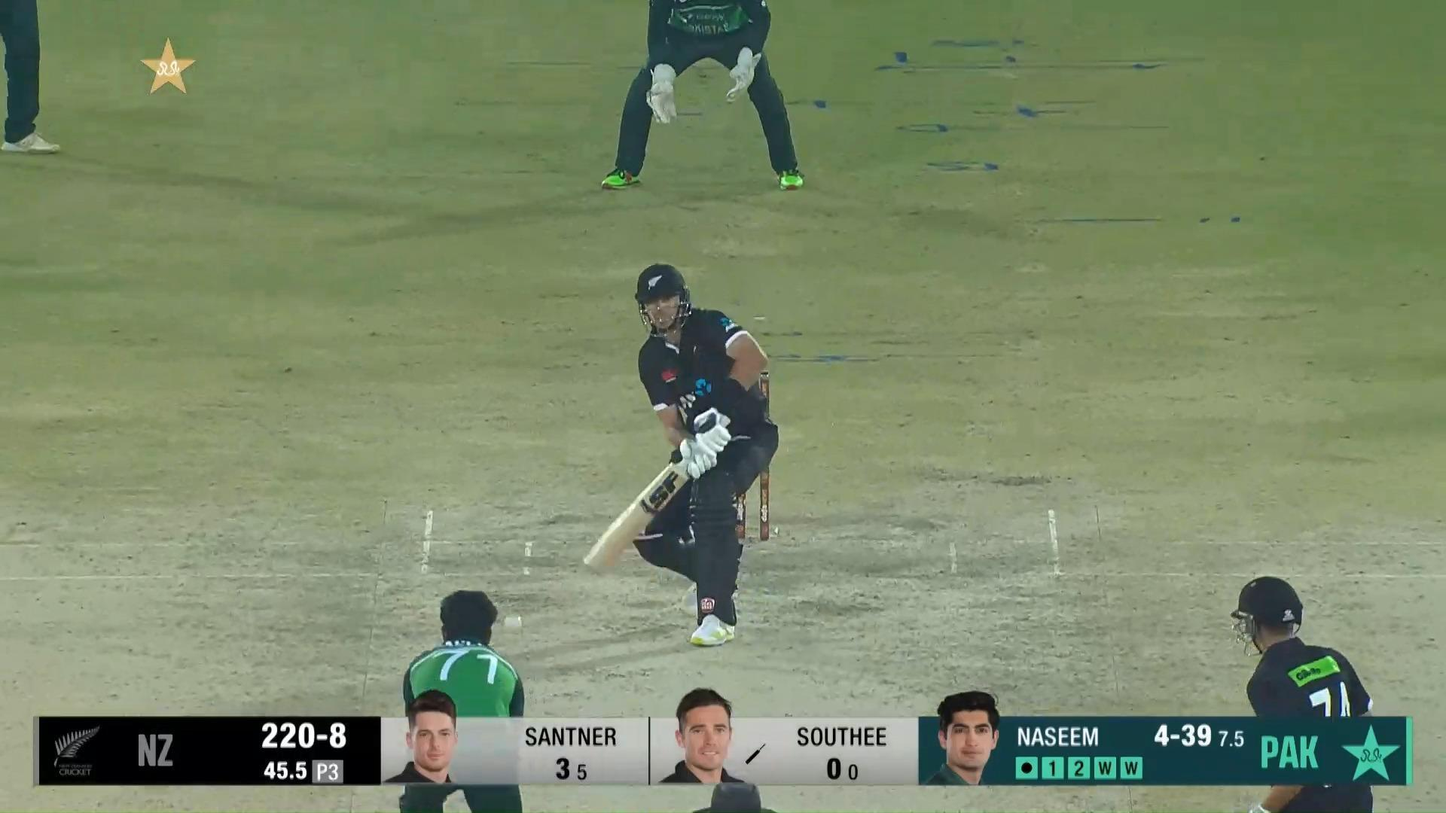BM 1: (581, 263, 780, 647)
BO: (398, 586, 527, 813)
